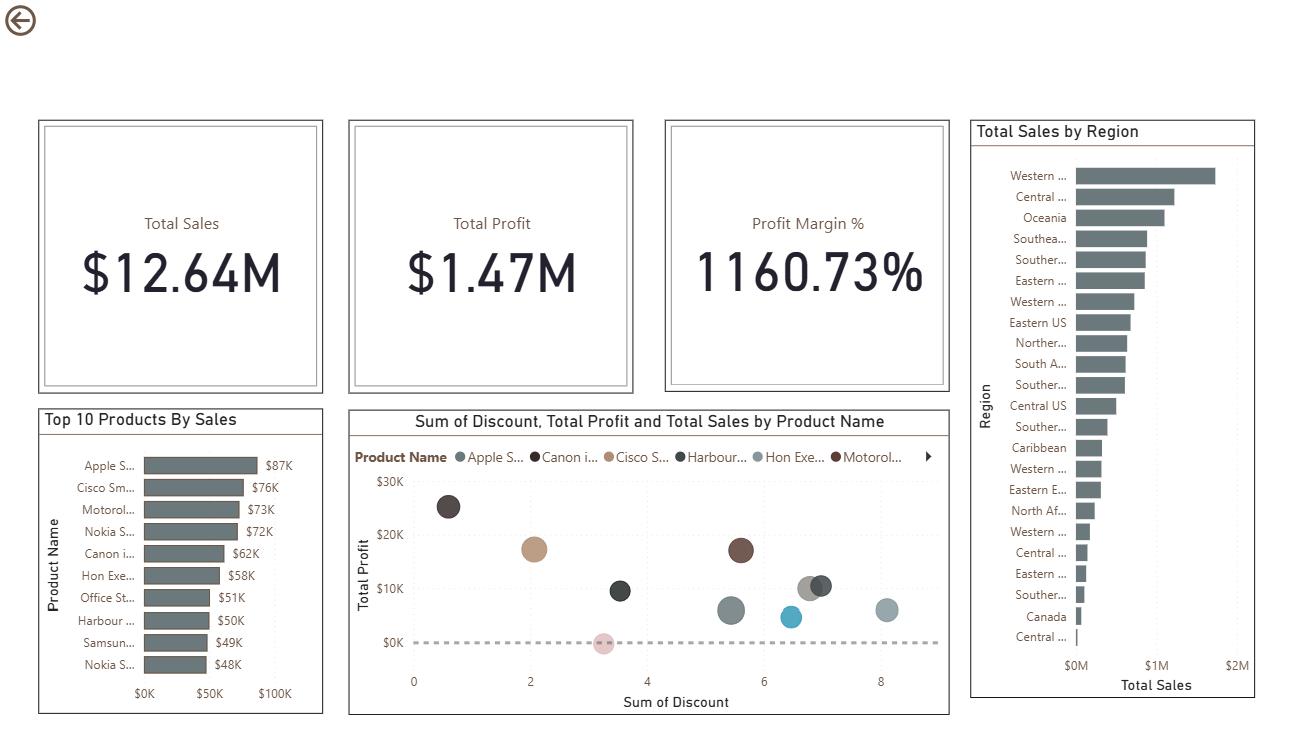

Layout of this report page (visuals, bound fields, positions):
{"tool":"powerbi","page":{"name":"Region Details","canvas":[1280,720],"ordinal":4},"visuals":[{"type":"cardVisual","fields":{"Data":["Orders.Total Sales"]},"box":[37.1,117.1,280,268.6],"z":0},{"type":"cardVisual","fields":{"Data":["Orders.Total Profit"]},"box":[342.9,117.1,280,268.6],"z":1000},{"type":"cardVisual","fields":{"Data":["Orders.Profit Margin %"]},"box":[652.9,117.1,280,267.1],"z":2000},{"type":"clusteredBarChart","fields":{"Category":["Orders.Region","Orders.Country","Orders.State","Orders.City"],"Y":["Orders.Total Sales"]},"box":[952.9,117.1,280,567.1],"z":3000},{"type":"actionButton","box":[0,0,100,40],"z":4000},{"type":"barChart","title":"Top 10 Products By Sales","fields":{"Y":["Orders.Total Sales"],"Category":["Orders.Product Name"]},"box":[37.1,401.4,280,298.6],"z":5000},{"type":"scatterChart","fields":{"X":["Sum(Orders.Discount)"],"Y":["Orders.Total Profit"],"Size":["Orders.Total Sales"],"Series":["Orders.Product Name"]},"box":[342.9,402.9,590,298.6],"z":6000}]}

Visuals, with their boxes on the page's 1280x720 design canvas (x1, y1, x2, y2). These are canvas units, not pixel positions in the 1300x729 screenshot, which may show the page scaled, cropped or inside an application window:
cardVisual - Orders.Total Sales: select_region(37, 117, 317, 386)
cardVisual - Orders.Total Profit: select_region(343, 117, 623, 386)
cardVisual - Orders.Profit Margin %: select_region(653, 117, 933, 384)
clusteredBarChart - Orders.Region x Orders.Country: select_region(953, 117, 1233, 684)
actionButton: select_region(0, 0, 100, 40)
"Top 10 Products By Sales" barChart: select_region(37, 401, 317, 700)
scatterChart - Sum(Orders.Discount) x Orders.Total Profit: select_region(343, 403, 933, 702)
